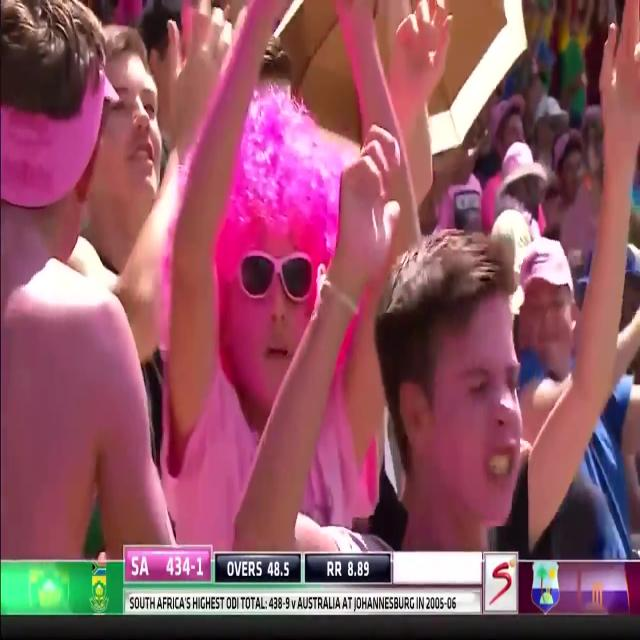Ball: (251, 1, 549, 552), (0, 0, 185, 558)
